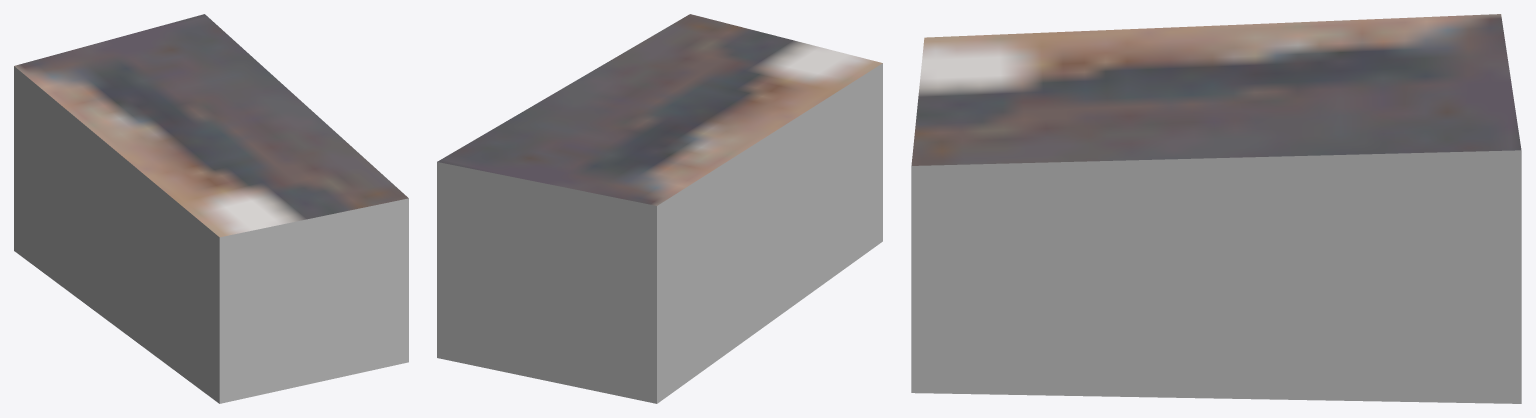
The model's file is DEBW_0010007Tx3r.gltf.
3 views of the same model, side by side, from view 1: azimuth 30°, elevation 25°; view 2: azimuth 150°, elevation 25°; view 3: azimuth 270°, elevation 25° (orthographic). The views are drawn at different scales.
Visible parts, largest first — view 1: Z_UP; view 2: Z_UP; view 3: Z_UP.
Part boxes in pixels (x1=…): Z_UP: x1=14, y1=14, x2=408, y2=403; Z_UP: x1=437, y1=14, x2=882, y2=403; Z_UP: x1=911, y1=14, x2=1521, y2=403.
Bounding box in the file's own units: 2.99 × 2.63 × 5.68.
Materials: 2 (1 with a texture image).
